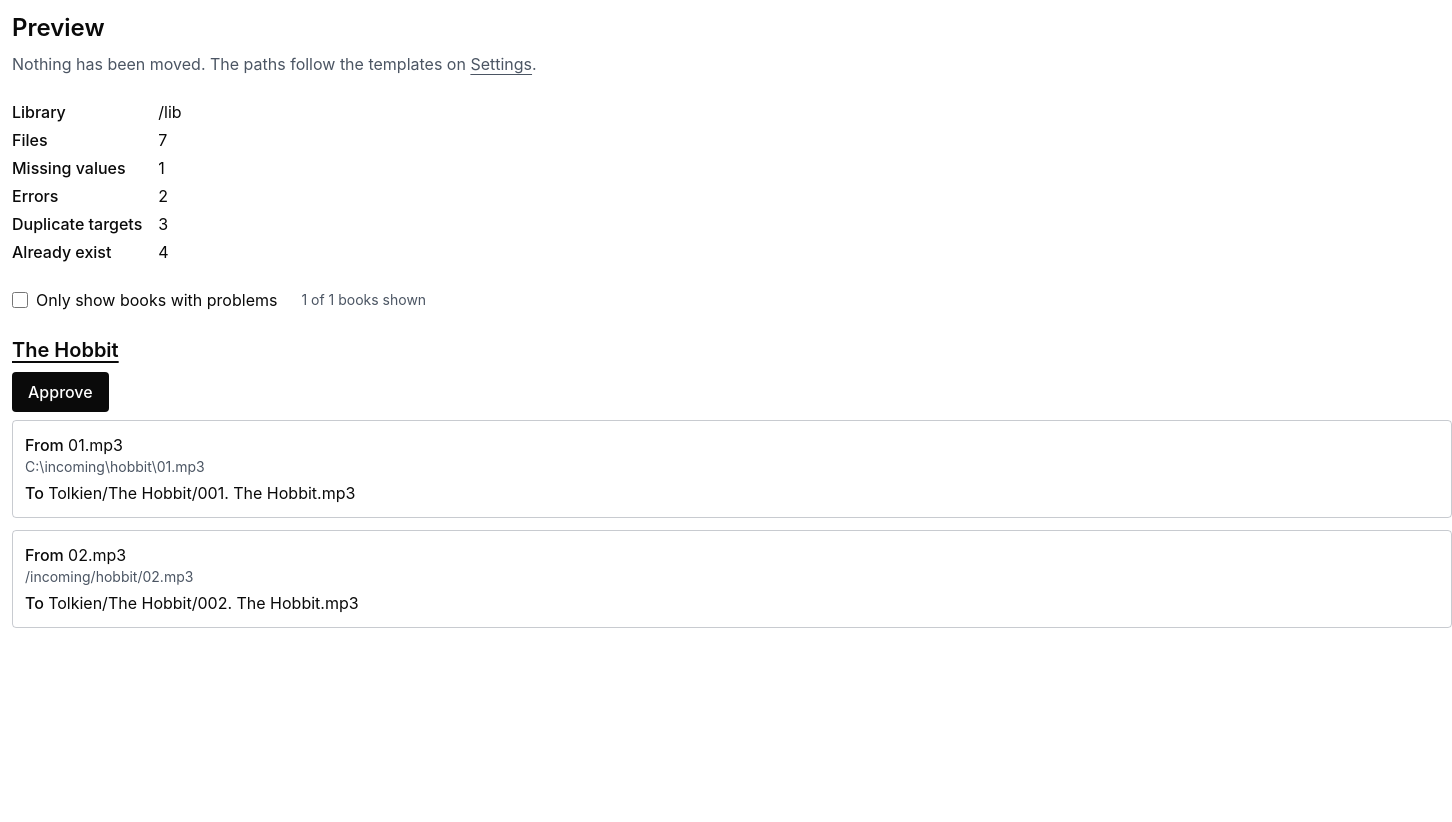
Test: PreviewPage › says when no book has problems under the filter
The width and height of the screenshot is (1452, 822).
Check: the heading "The Hobbit" is shown, box [12,338,119,362]
Click the checkbox labelled "Only show books with problems" at x=20, y=300, box [12,292,28,308]
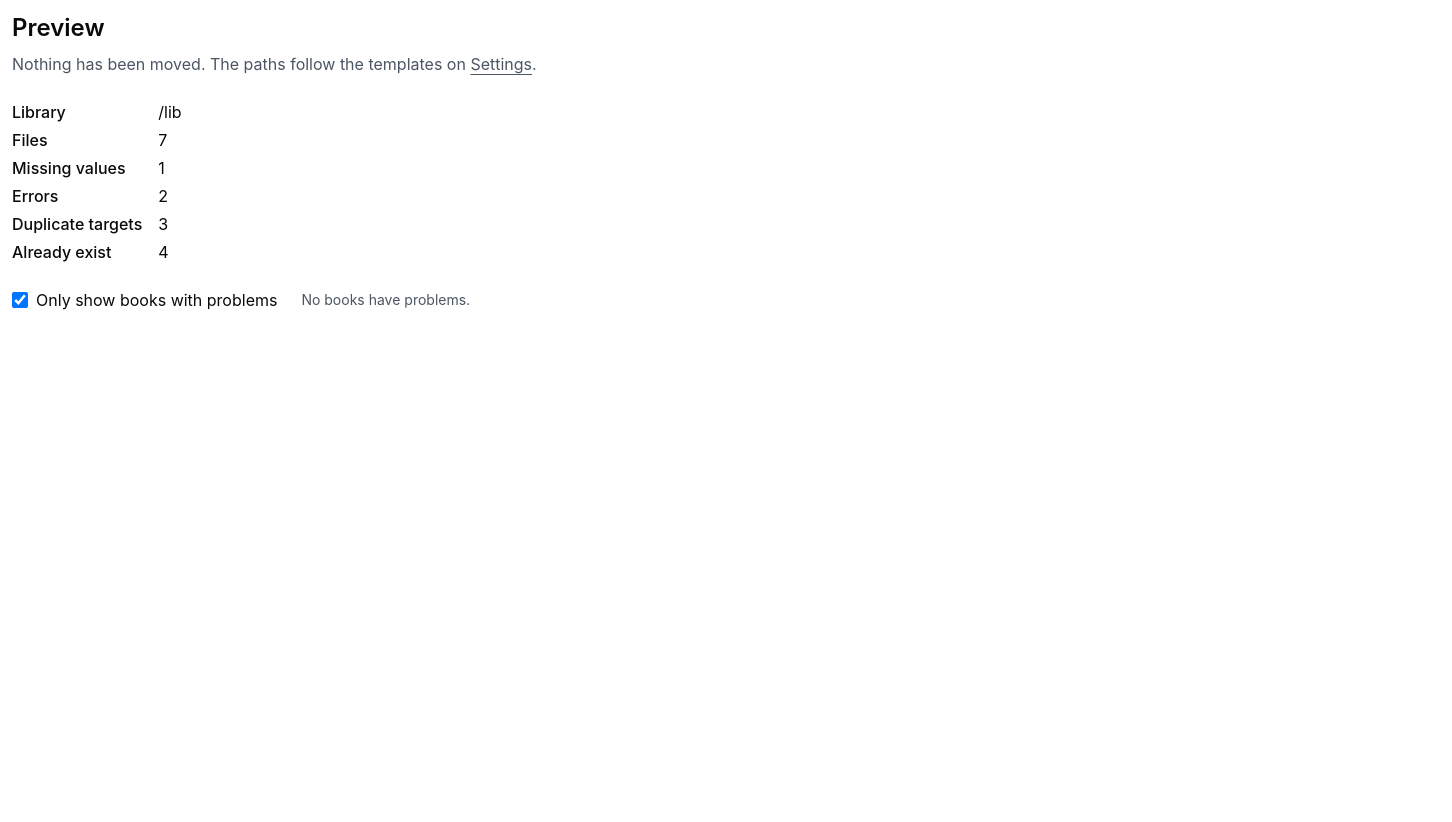
Check: the heading "The Hobbit" is gone
Check: the message reads "No books have problems.", box [301,291,470,308]
